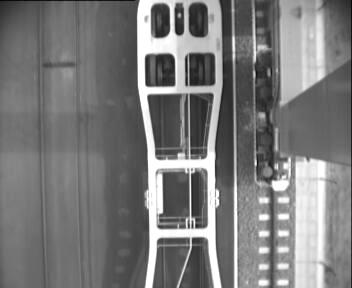twist_lock_2: (149, 1, 212, 39)
